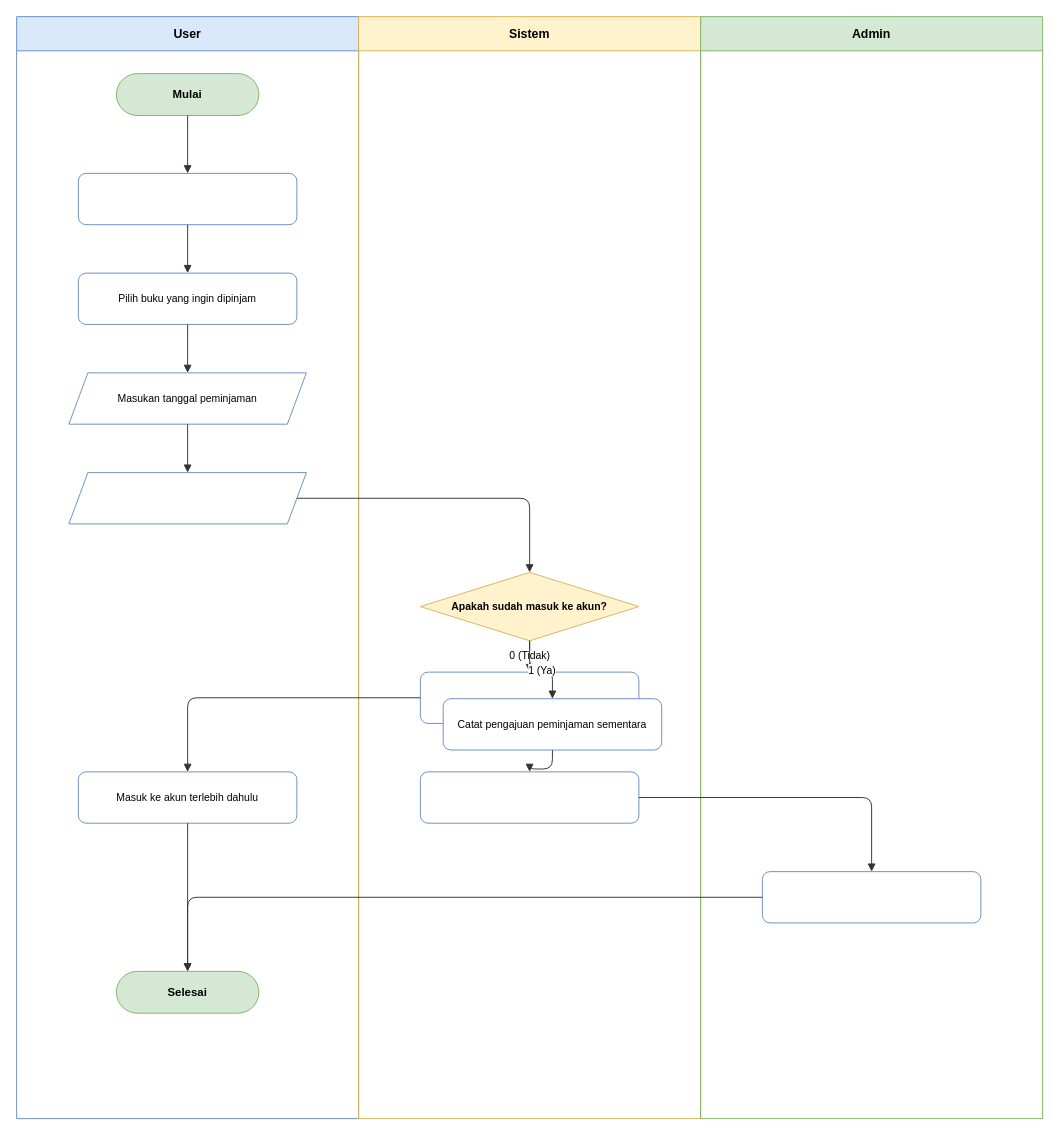
Some shapes in this 1059 by 1135 pixel diagram are drawn without their labels. Each missing label, with the centre of its shape:
"Buka halaman katalog buku" belongs at pixel 187 198.
"Klik tombol ajukan peminjaman" belongs at pixel 187 498.
"Menerima daftar pengajuan peminjaman" belongs at pixel 871 897.
"Tampilkan peringatan harus masuk terlebih dahulu" belongs at pixel 529 697.
"Tampilkan pesan menunggu persetujuan Admin" belongs at pixel 529 797.
